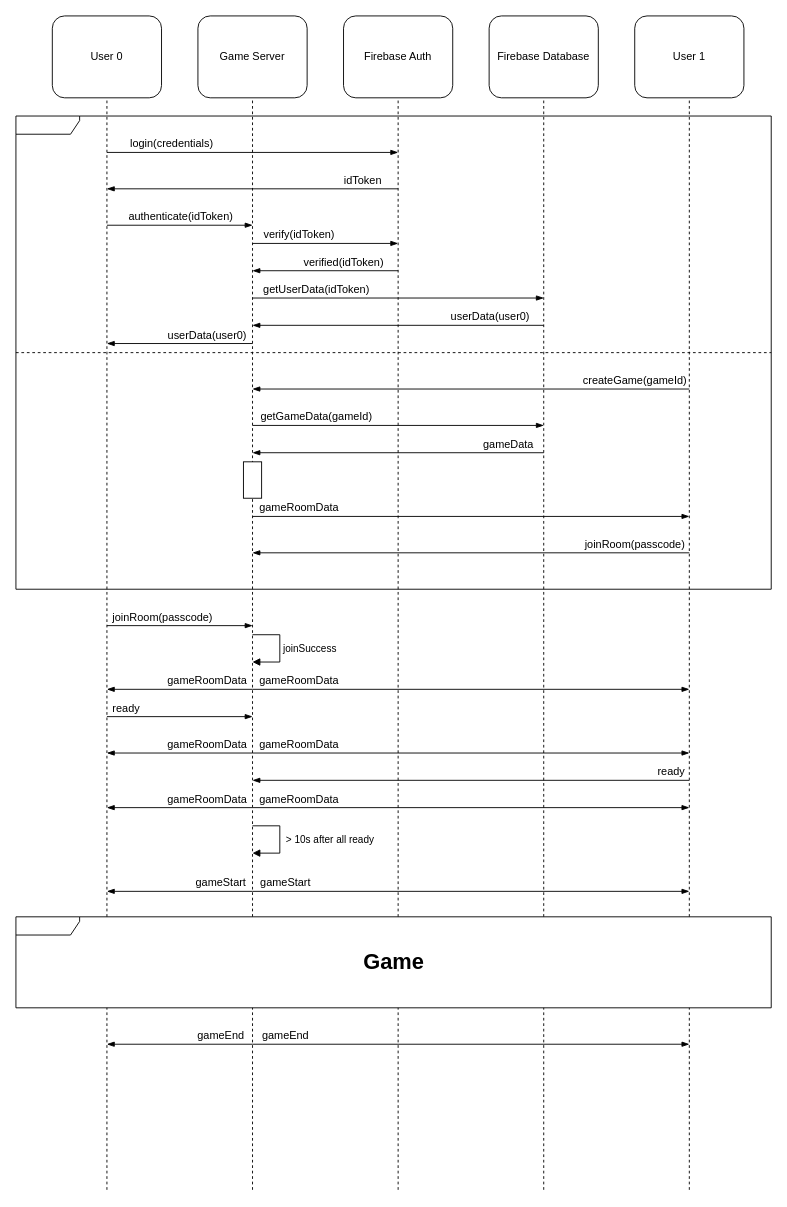
The diagram is 787 pixels wide and 1207 high, and some of its shapes have lost their labels. The shapes that lost their labels are listed below. From the top down, each one's box as (x1, y1, x2, y2) in pixels, then its label:
(15, 115, 771, 589): parallel
(15, 916, 771, 1008): opt
